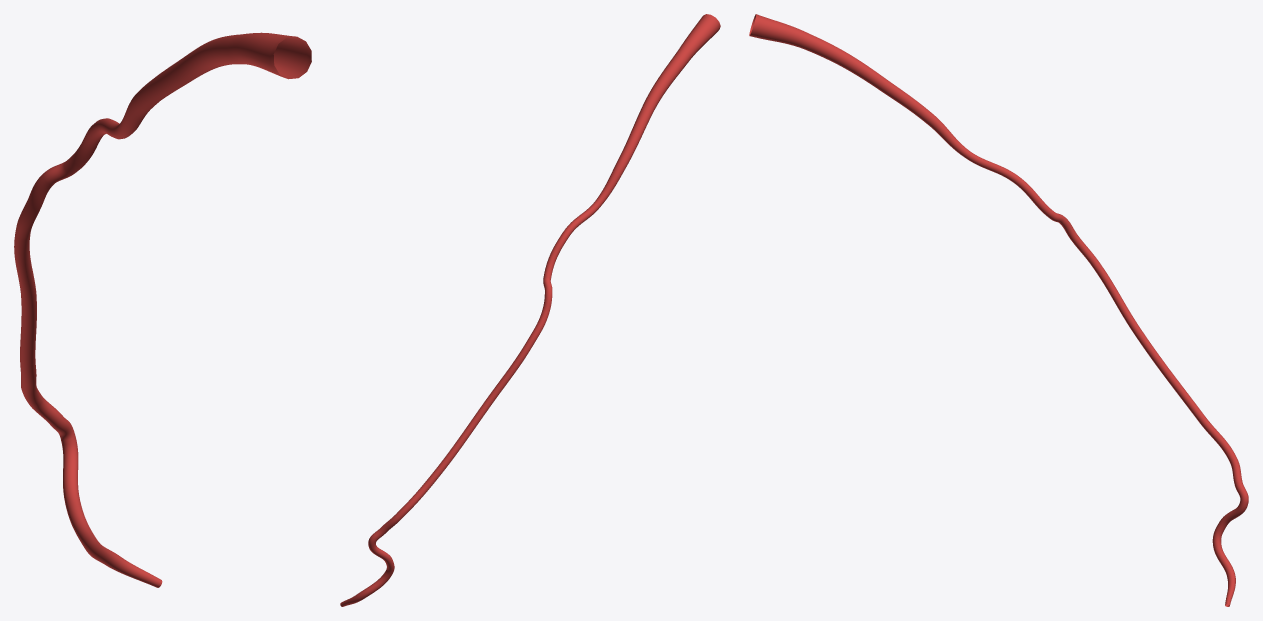
3 views of the same model, side by side, from view 1: azimuth 30°, elevation 25°; view 2: azimuth 150°, elevation 25°; view 3: azimuth 270°, elevation 25° (orthographic). The views are drawn at different scales.
Parts seen in each view (by area): view 1: 右侧下牙槽动脉; view 2: 右侧下牙槽动脉; view 3: 右侧下牙槽动脉.
Part boxes in pixels (x1,y1,x2,y2): 右侧下牙槽动脉: (14, 32, 311, 587); 右侧下牙槽动脉: (340, 14, 720, 606); 右侧下牙槽动脉: (749, 14, 1248, 606).
Bounding box in the file's own units: 0.0355 × 0.0986 × 0.0871.
